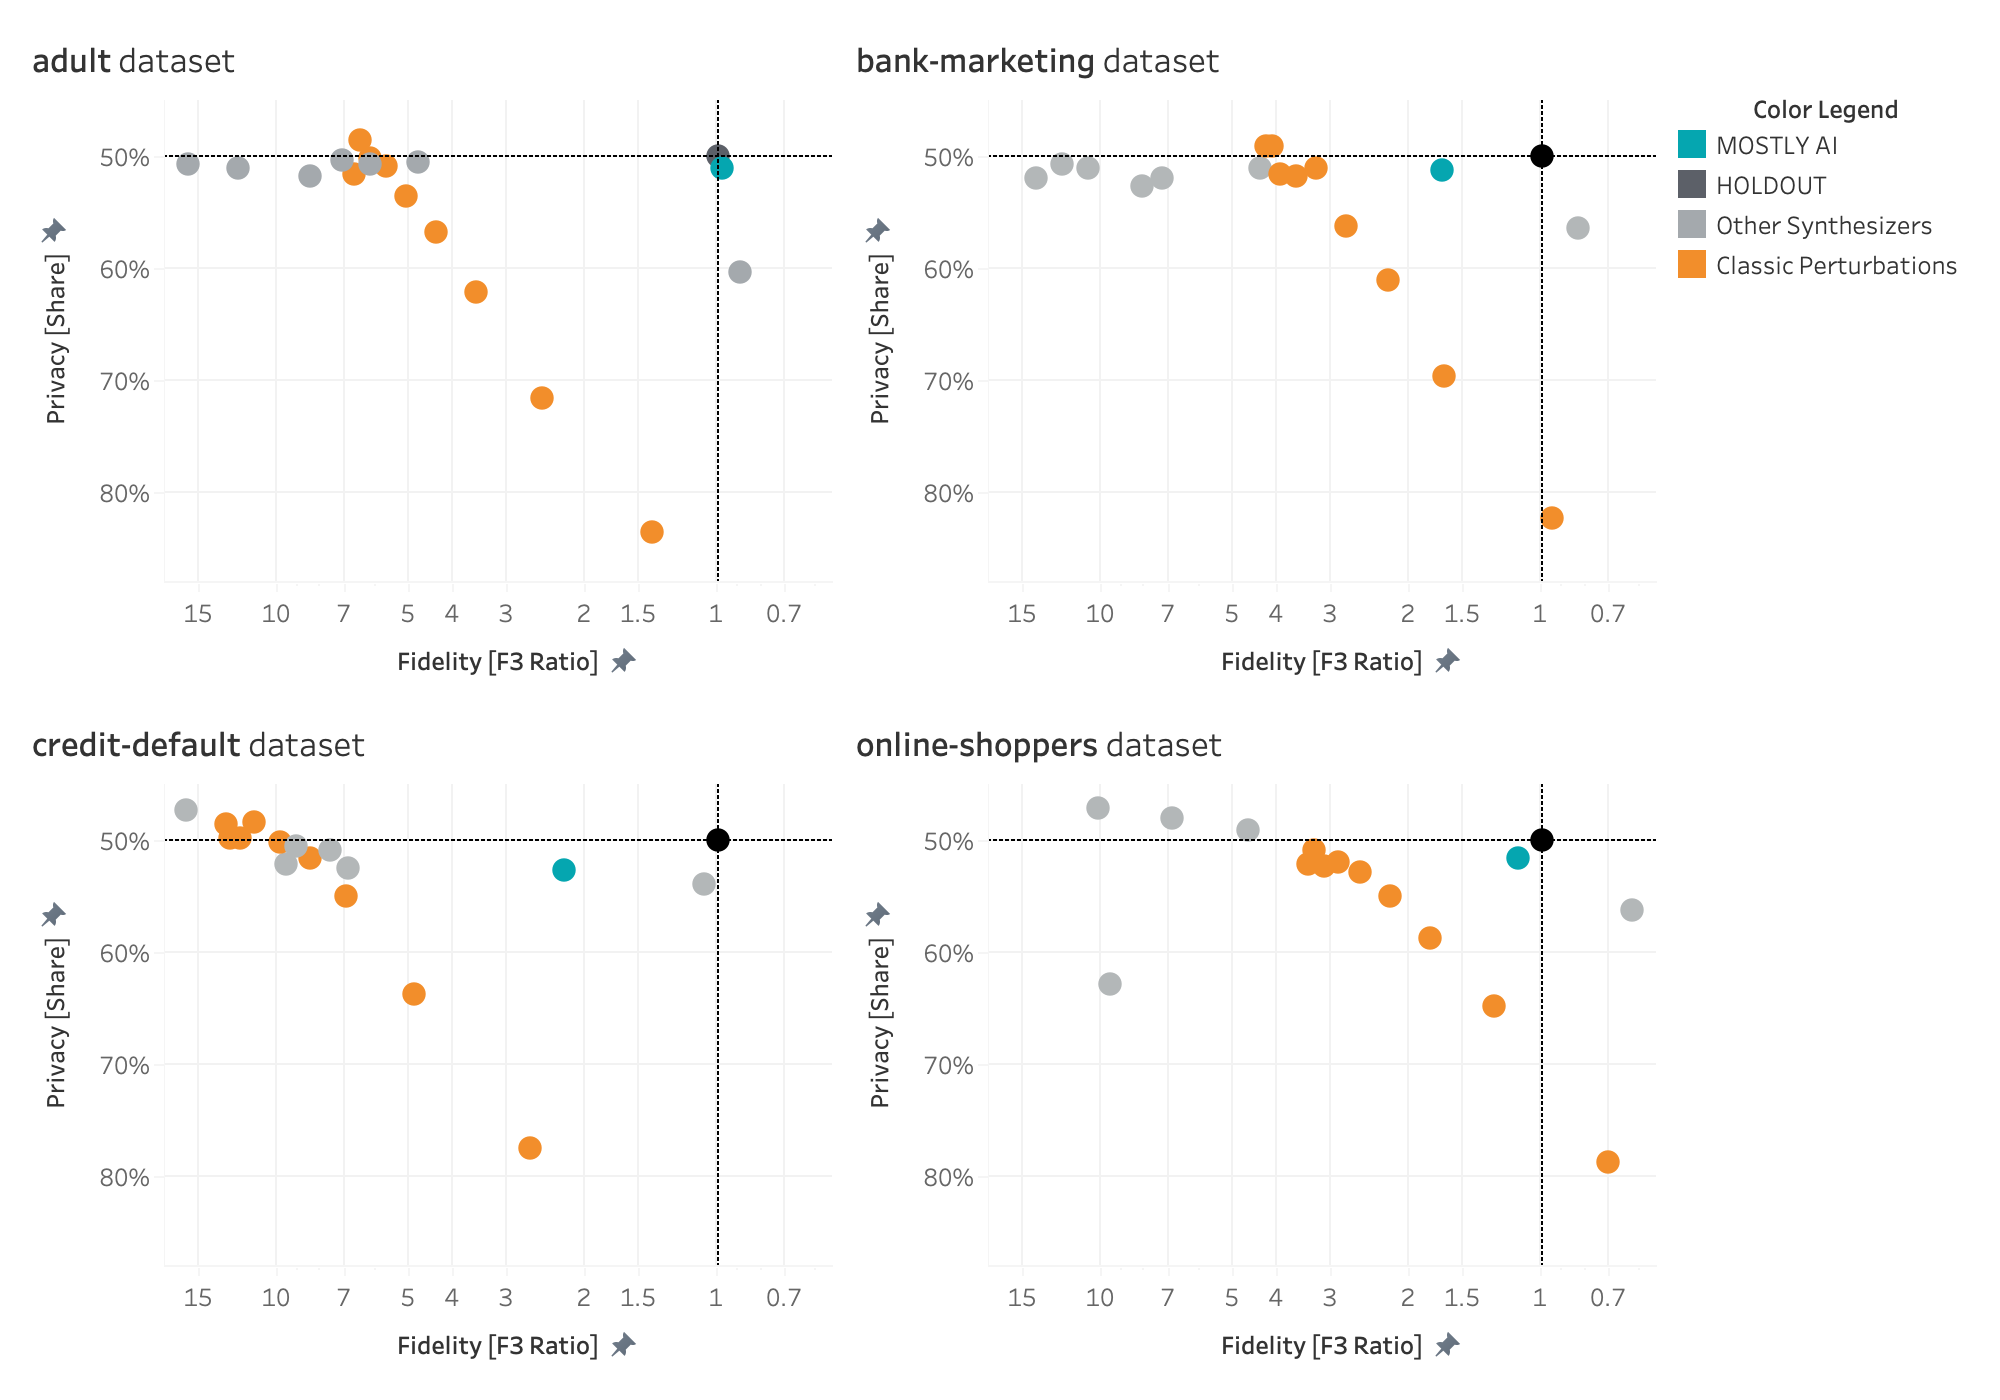

The page's visual inventory and layout, read from the dashboard file:
{"tool":"tableau","page":{"name":"df_all","canvas":[1000,700],"ordinal":1},"visuals":[{"type":"worksheet","title":"df1","mark":"Automatic","rows":["priv_share"],"cols":["fid3_ratio"],"box":[8,8,412,342]},{"type":"worksheet","title":"df2","mark":"Shape","rows":["priv_share"],"cols":["fid3_ratio"],"box":[420,8,412,342]},{"type":"blank","box":[832,8,160,32]},{"type":"legend","title":"df1","param":"[federated.0exfi0i05gmj3d14msn4h1me6b6n].[none:Calculation_5919700265430339584:n","box":[832,40,160,106]},{"type":"worksheet","title":"df3","mark":"Shape","rows":["priv_share"],"cols":["fid3_ratio"],"box":[8,350,412,342]},{"type":"worksheet","title":"df4","mark":"Shape","rows":["priv_share"],"cols":["fid3_ratio"],"box":[420,350,412,342]}]}

Visuals, with their boxes in screenshot pixels (x1, y1, x2, y2), scaled from the page's 1000x700 canvas onto the 2000x1400 screenshot:
"df1" worksheet: 16 16 840 700
"df2" worksheet (Shape marks): 840 16 1664 700
blank: 1664 16 1984 80
"df1" legend: 1664 80 1984 292
"df3" worksheet (Shape marks): 16 700 840 1384
"df4" worksheet (Shape marks): 840 700 1664 1384
